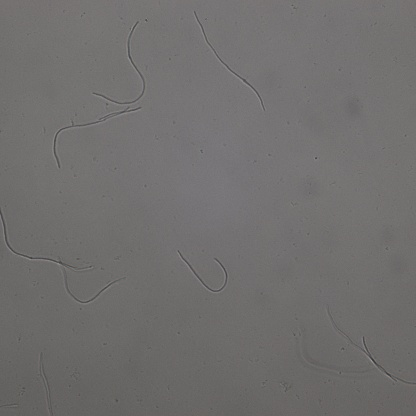Sensitive: (194, 10, 265, 109), (328, 308, 416, 385), (53, 107, 142, 169), (1, 210, 91, 271), (92, 22, 147, 105), (59, 258, 126, 304), (177, 250, 229, 293)
